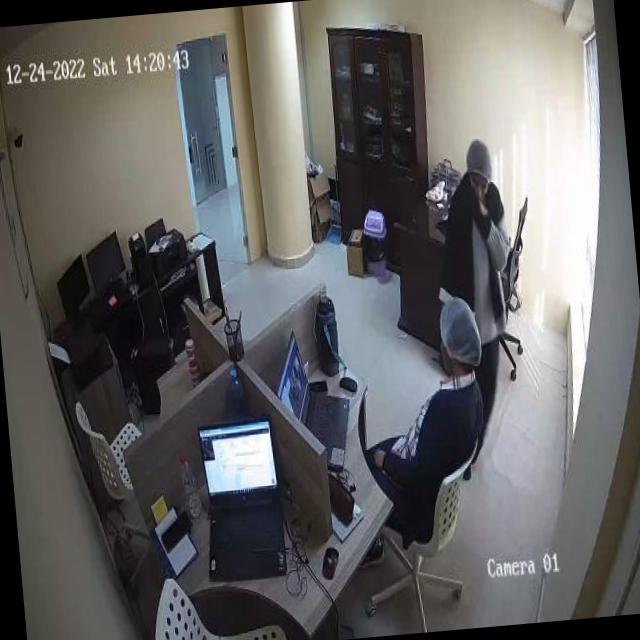hairnet: (441, 296, 483, 370), (460, 143, 494, 184)
